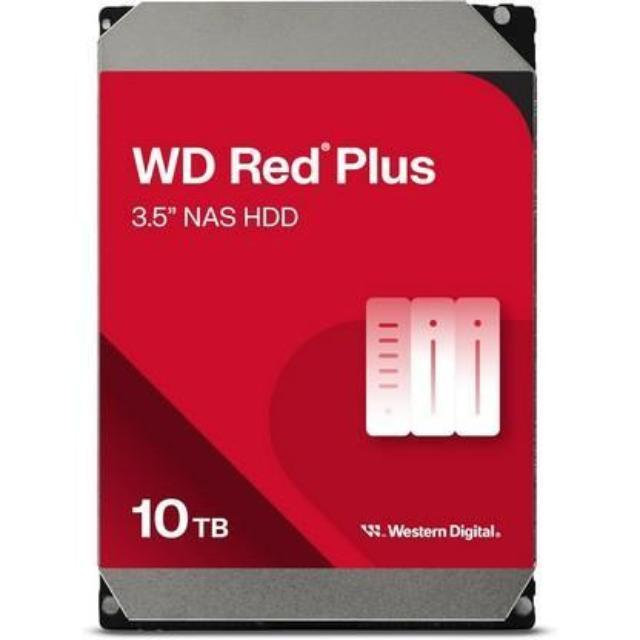DISK: (96, 2, 538, 640)
